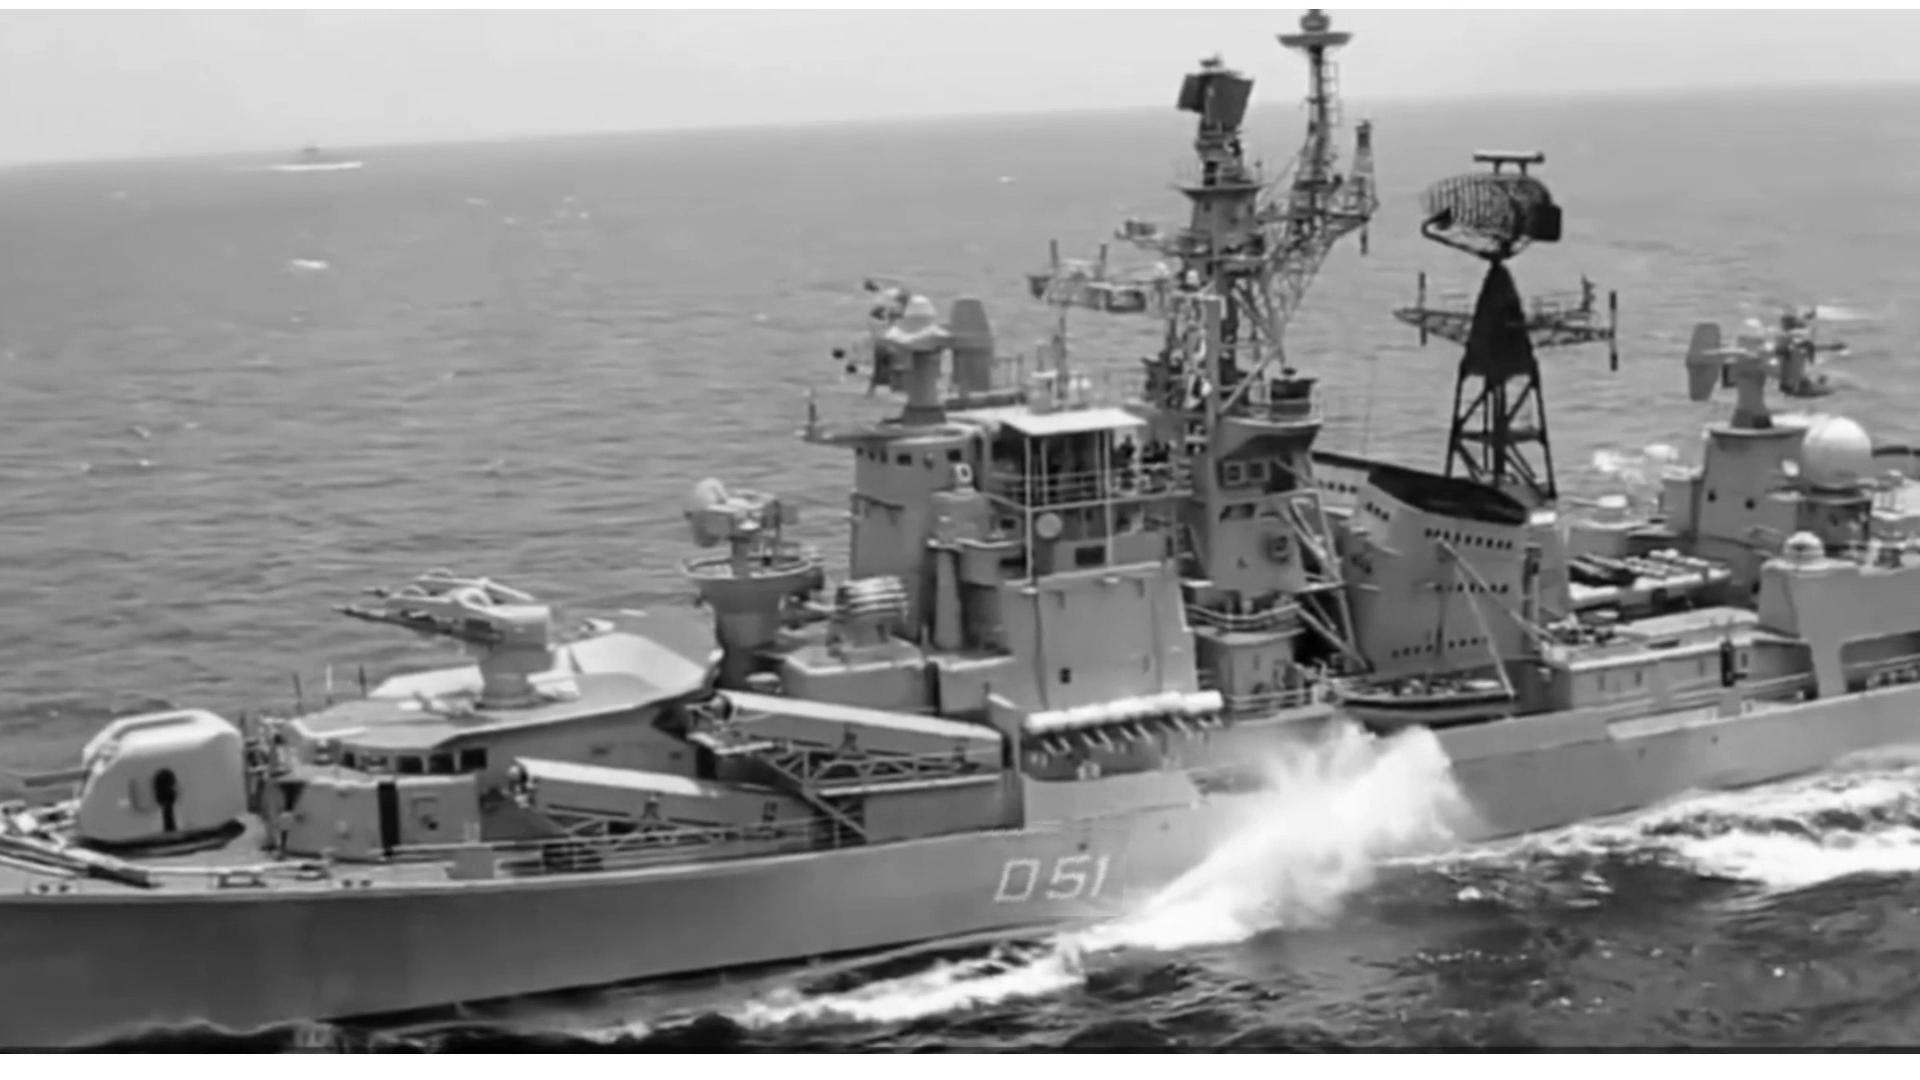OCR: (975, 818, 1130, 916)
